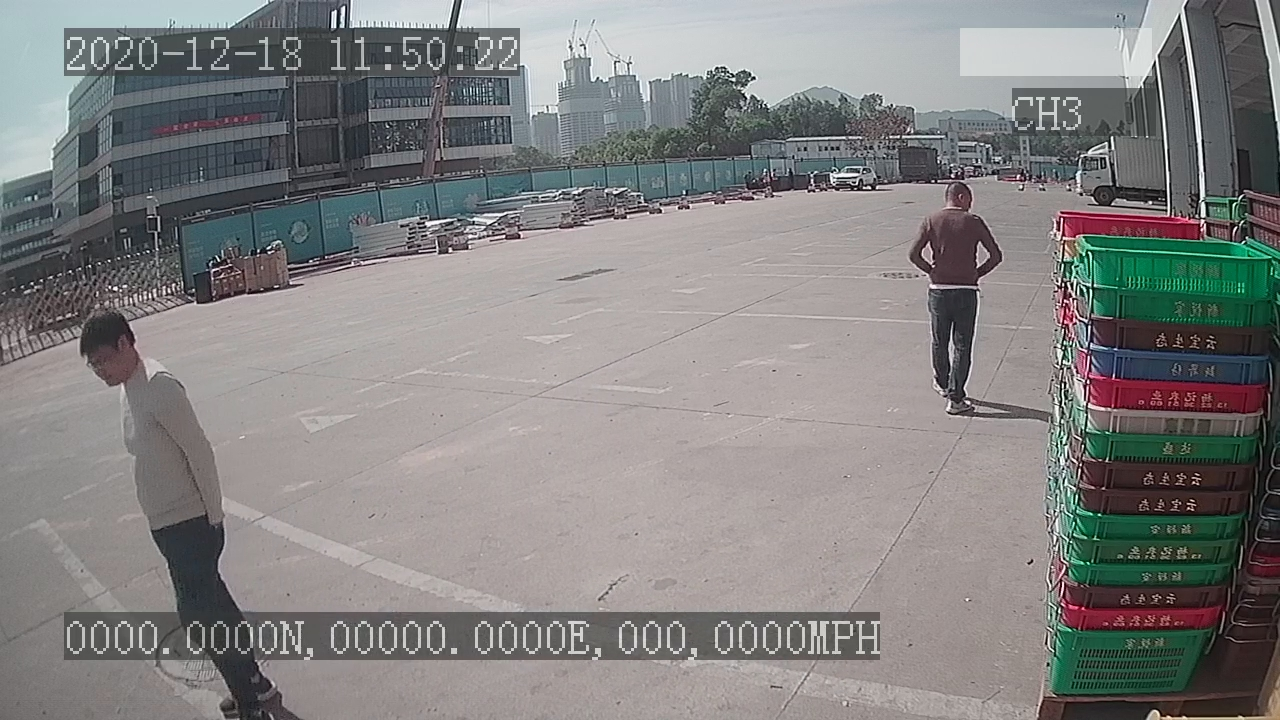person: (901, 177, 1006, 419)
